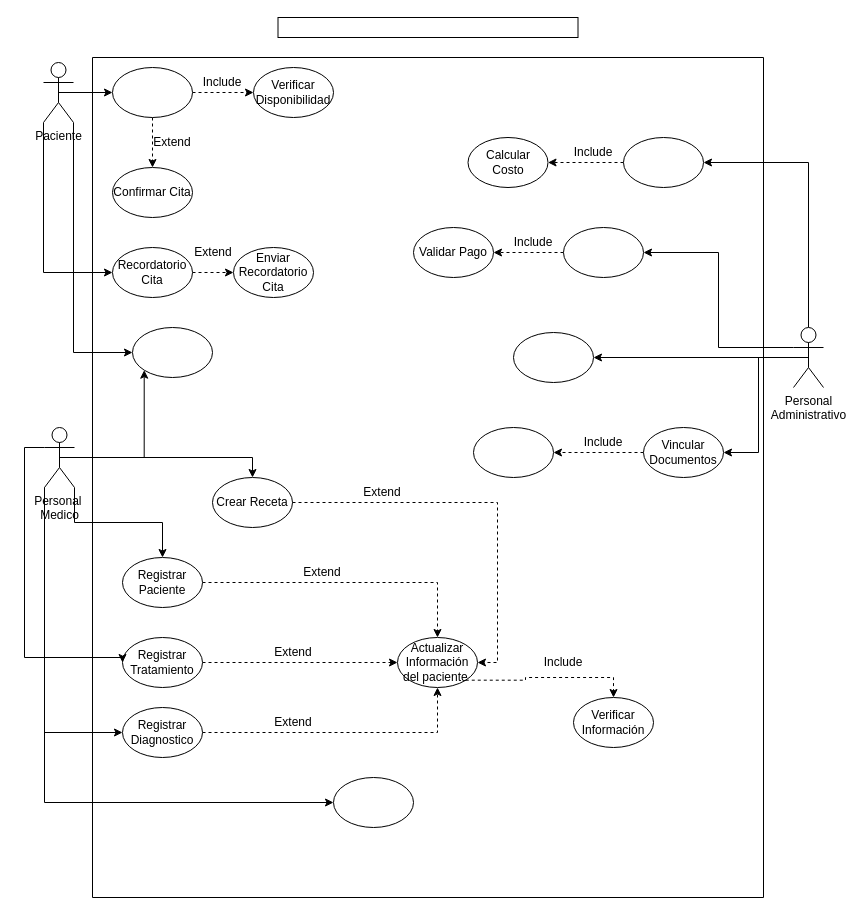
This 863x915 diagram has some shape labels left out. Here are the shapes that lost their labels. From the top down, the centre of each, then its label:
At (427,27): "Diagrama de Casos de Uso".
At (152,92): "Programar Cita".
At (663,162): "Generar Factura".
At (603,252): "Registrar Pago".
At (172,352): "Visualización de Calendario".
At (553,357): "Consultar Historial Financiero".
At (513,452): "Digitalizar Documento".
At (373,802): "Gesionar Historial Clinico".
